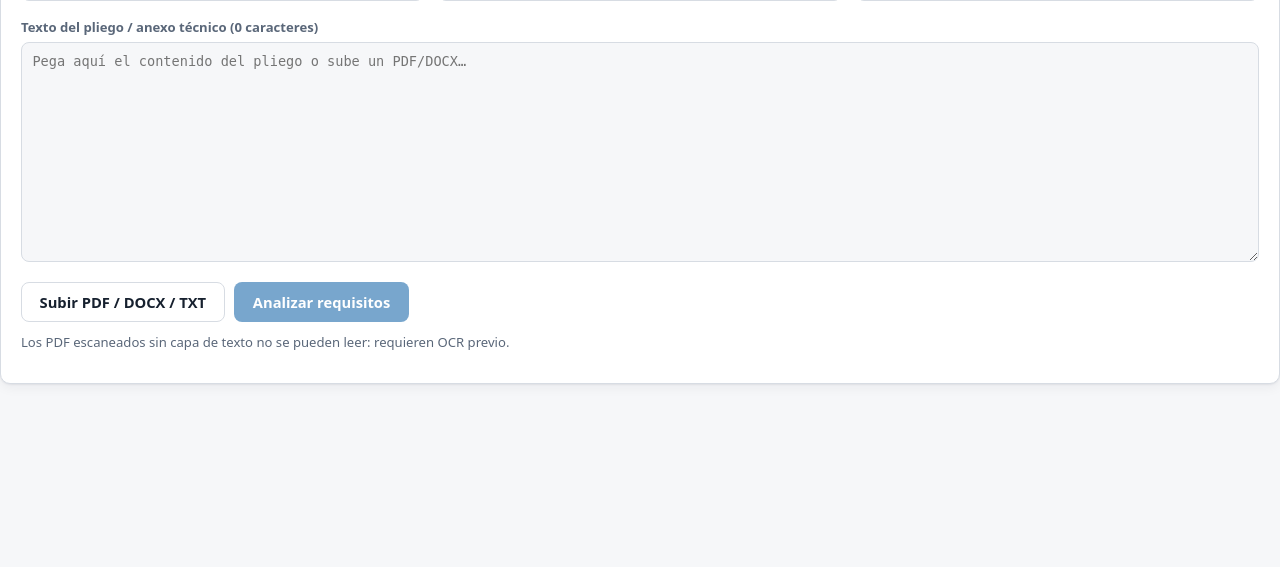
Test: vista Analizar › presenta los requisitos extraídos y los deja disponibles para las demás vistas
In the text box labelled "Texto del pliego / anexo técnico (0 caracteres)": x=640, y=152 [21,42,1259,262], type "El contratista debe desarrollar el portal ciudadano bajo arquitectura de microservicios."
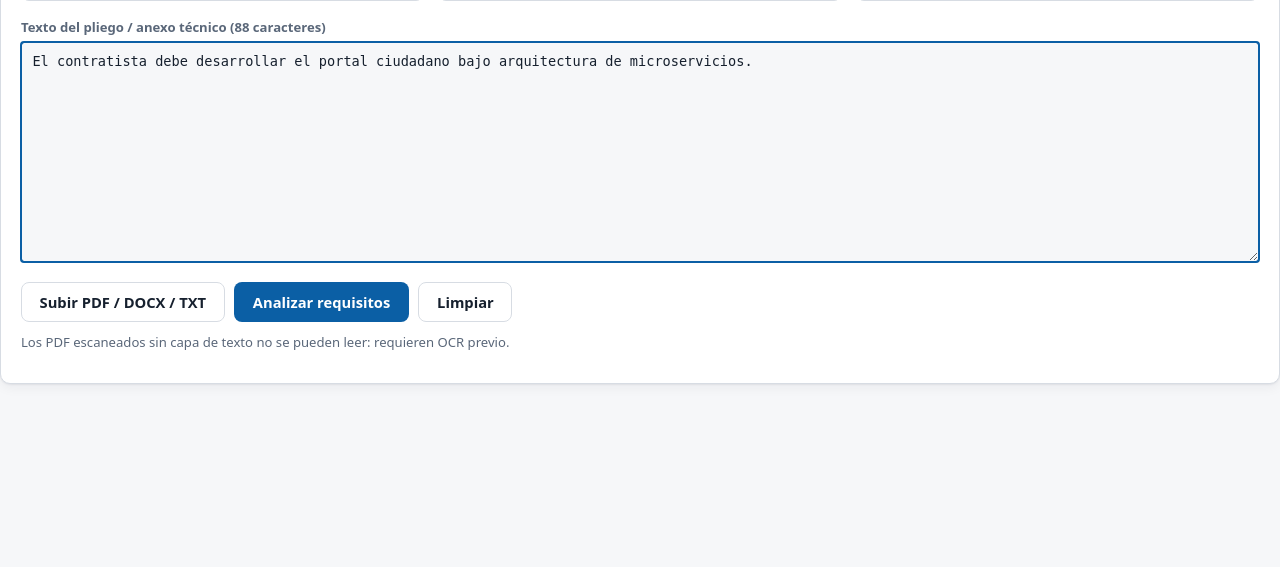
Click the button "Analizar requisitos": x=322, y=302 [234,282,409,322]
(page scrolled)
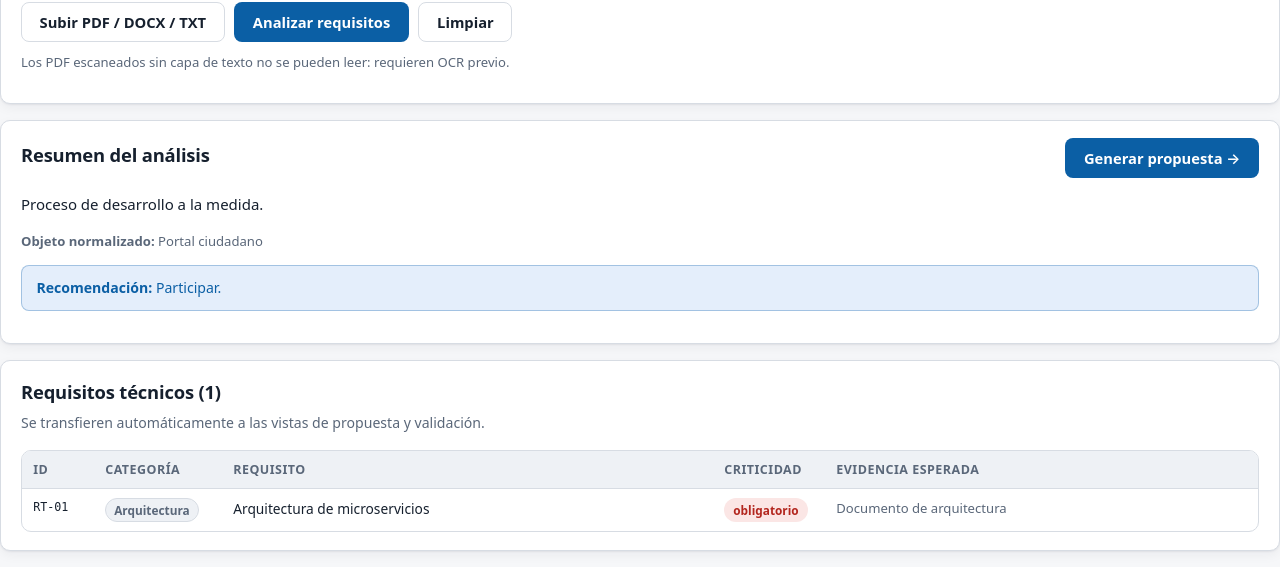
Check: the text "Arquitectura de microservicios" is shown, box [222,489,713,531]
Check: the heading "Requisitos técnicos (1)" is shown, box [21,378,221,407]
